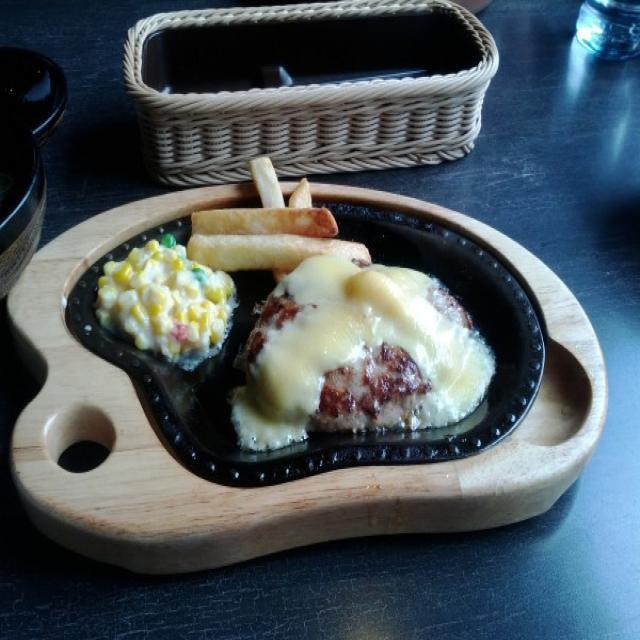French Fries: (194, 172, 332, 258)
